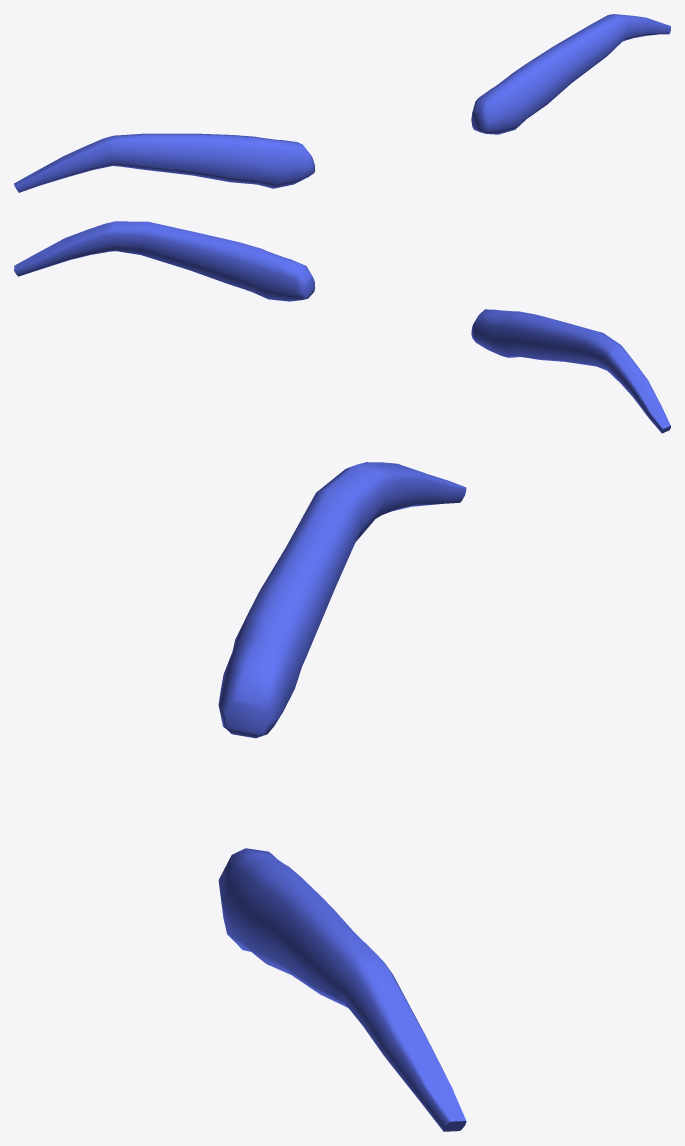
File: Eyebrows_11_03.fbx
The picture shows the model from 3 angles, top to bottom: view 1: azimuth 30°, elevation 25°; view 2: azimuth 150°, elevation 25°; view 3: azimuth 270°, elevation 25°; orthographic projection. The views are drawn at different scales.
Visible parts, largest first — view 1: Eyebrows_11_03; view 2: Eyebrows_11_03; view 3: Eyebrows_11_03.
Part boxes in pixels (x1=…): Eyebrows_11_03: x1=14, y1=14, x2=670, y2=192; Eyebrows_11_03: x1=14, y1=221, x2=670, y2=433; Eyebrows_11_03: x1=218, y1=462, x2=466, y2=1131.
Bounding box in the file's own units: 19.56 × 1.82 × 3.2.
